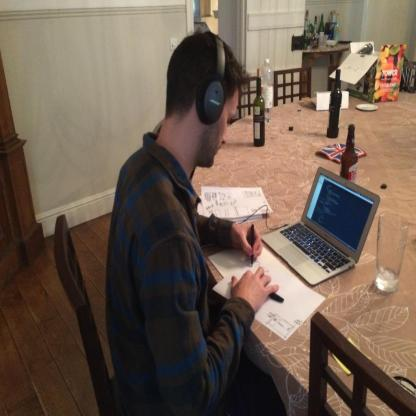board: (266, 160, 376, 285), (340, 123, 358, 185), (328, 68, 342, 138), (254, 68, 265, 147), (262, 58, 274, 123)
